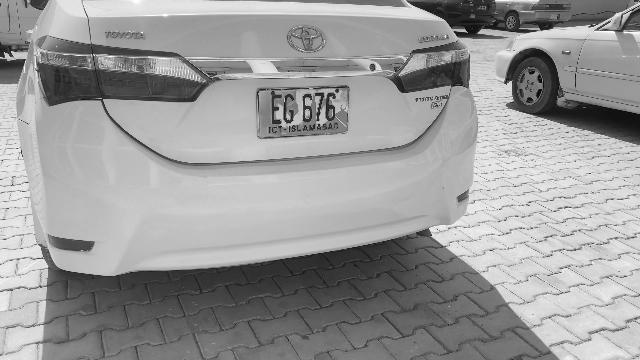Number: (267, 91, 338, 126)
